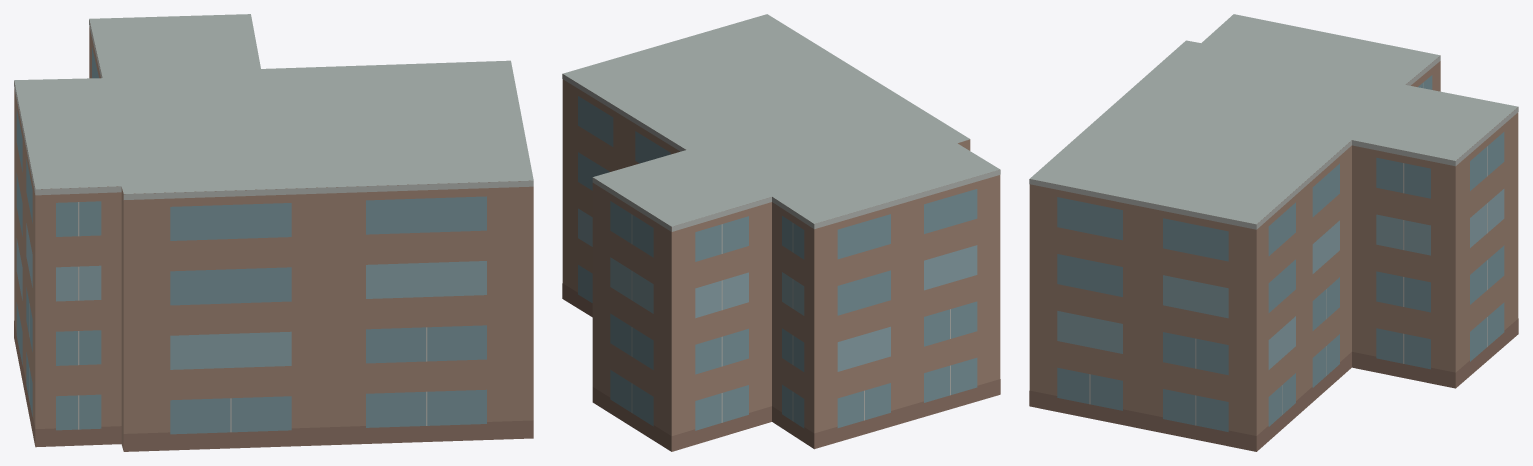
The model's file is survey-upis-32638846.glb.
3 renders of one model, left to right at view 1: azimuth 30°, elevation 25°; view 2: azimuth 150°, elevation 25°; view 3: azimuth 270°, elevation 25°, orthographic. The views are drawn at different scales.
Parts seen in each view (by area): view 1: survey-upis-32638846.tmp; view 2: survey-upis-32638846.tmp; view 3: survey-upis-32638846.tmp.
Boxes of the visible parts, box(x1,y1,x2,y2) form: survey-upis-32638846.tmp: box(14, 14, 533, 451); survey-upis-32638846.tmp: box(562, 14, 1000, 451); survey-upis-32638846.tmp: box(1029, 14, 1518, 451).
Bounding box in the file's own units: 20.64 × 10.4 × 20.27.
